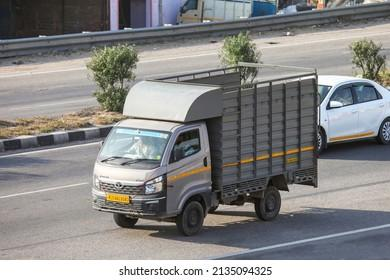car: (311, 70, 390, 152)
truck: (91, 64, 320, 235)
